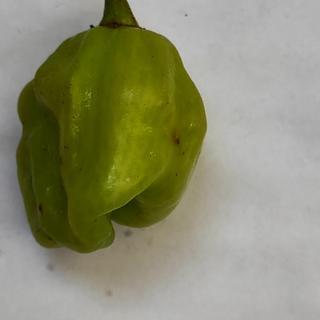Fly-bites: (169, 131, 191, 161), (31, 198, 51, 215)
